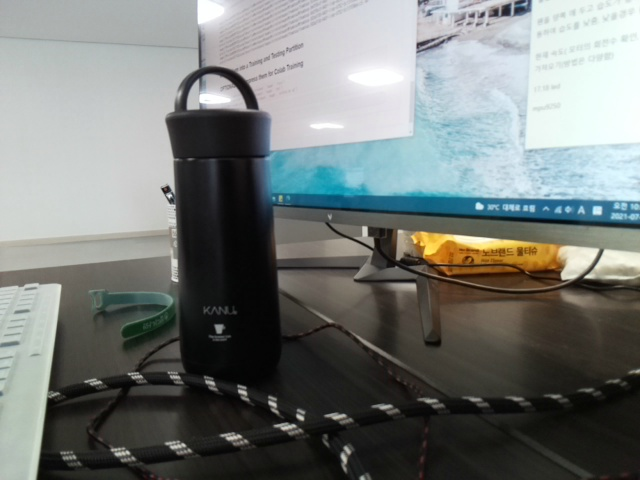Bottle: (161, 52, 289, 366)
